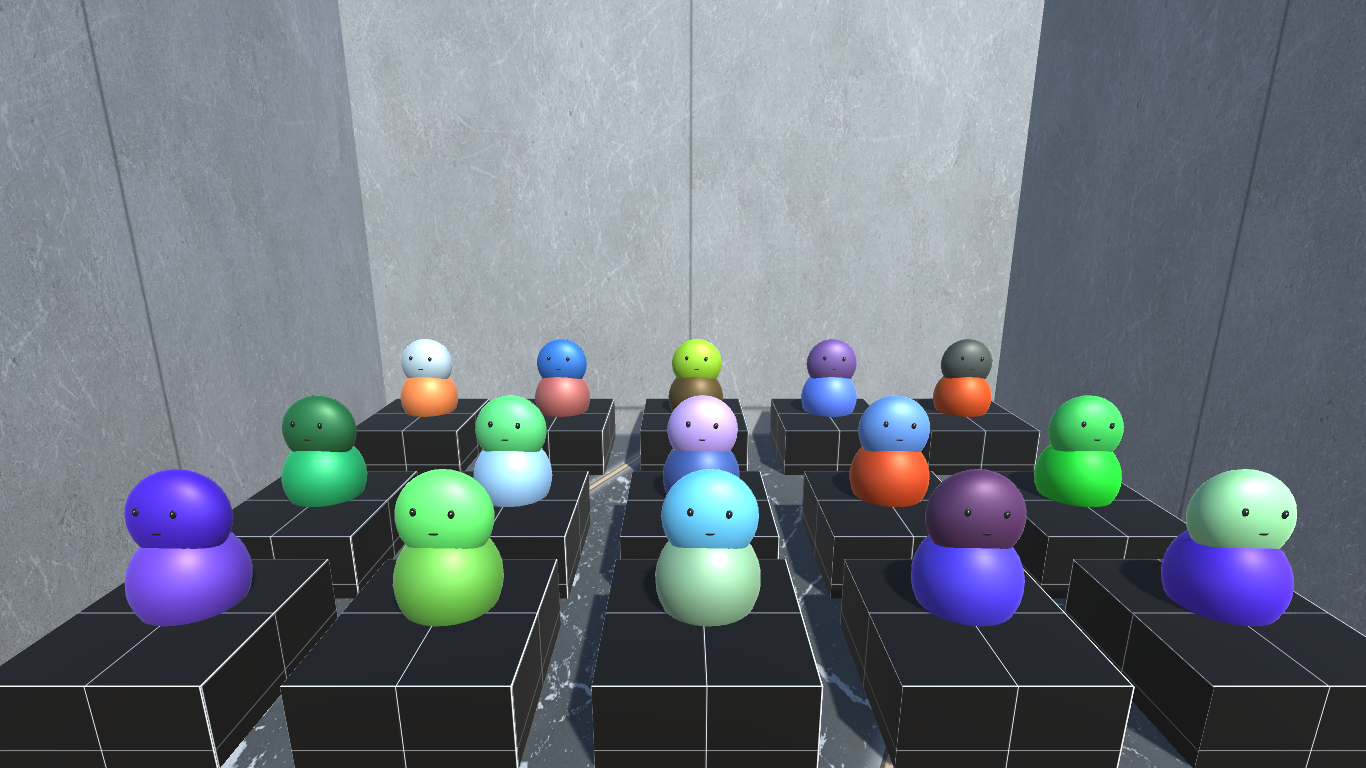blob_normal: (1160, 466, 1301, 635), (125, 462, 254, 629), (913, 474, 1033, 625), (652, 468, 761, 630), (394, 465, 503, 626), (1031, 397, 1134, 519), (465, 396, 557, 506), (282, 400, 372, 510), (851, 396, 937, 509), (659, 397, 741, 485), (927, 329, 993, 421), (797, 337, 857, 422), (403, 336, 462, 417), (666, 339, 729, 403), (536, 339, 588, 416)
